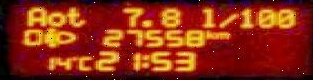-: (140, 18, 151, 26)
0: (273, 6, 295, 27), (253, 6, 273, 27), (20, 27, 40, 44)
1: (238, 6, 253, 27), (129, 51, 138, 70), (44, 56, 53, 70)
2: (93, 49, 118, 70), (100, 27, 122, 46)
3: (171, 50, 195, 71)
4: (53, 55, 69, 69)
5: (146, 50, 171, 70), (142, 27, 162, 46), (162, 28, 182, 46)
7: (120, 6, 140, 26), (122, 27, 142, 44)
8: (158, 6, 180, 27), (182, 28, 202, 46)
X: (24, 5, 44, 26), (64, 5, 84, 26), (198, 6, 216, 27), (216, 11, 236, 27), (44, 10, 64, 26), (75, 55, 89, 70), (213, 30, 229, 39), (140, 52, 146, 67), (204, 29, 213, 39)
